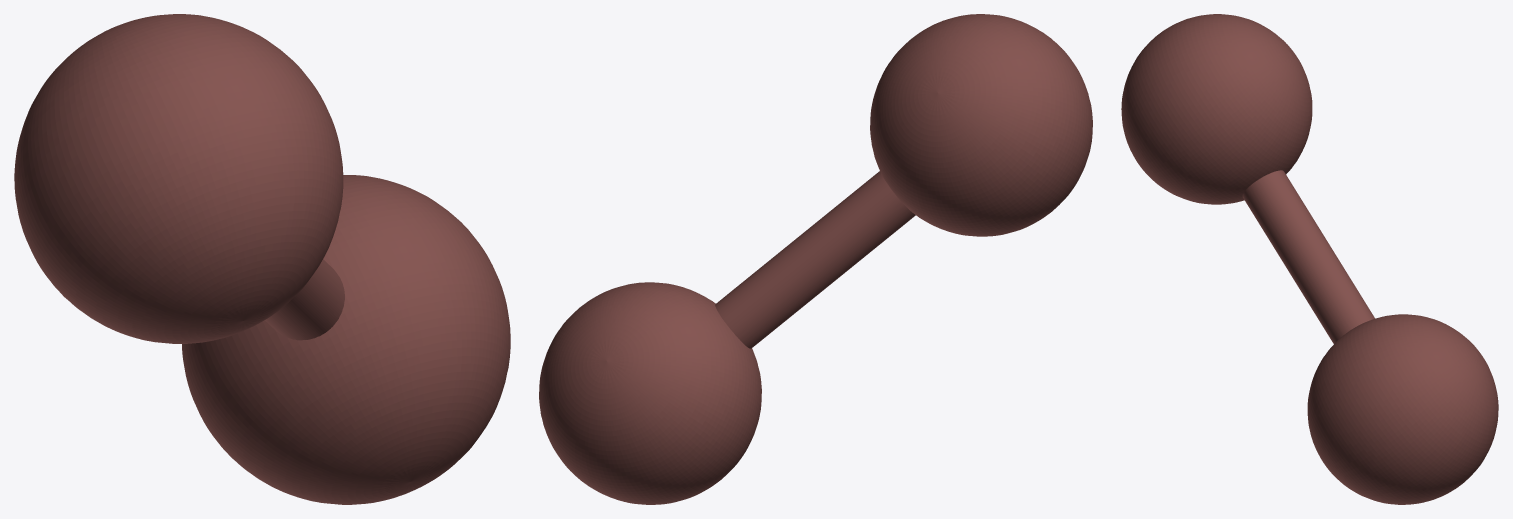
Rendered from dumbbell-transformed1.glb.
3 renders of one model, left to right at view 1: azimuth 30°, elevation 25°; view 2: azimuth 150°, elevation 25°; view 3: azimuth 270°, elevation 25°, orthographic. The views are drawn at different scales.
Parts seen in each view (by area): view 1: Sphere.012; view 2: Sphere.012; view 3: Sphere.012.
Boxes of the visible parts, bbox=[...] form: Sphere.012: bbox=[14, 14, 510, 504]; Sphere.012: bbox=[539, 14, 1092, 504]; Sphere.012: bbox=[1121, 14, 1498, 504].
Size of the model in its own units: 4.92 by 5.04 by 4.53.
